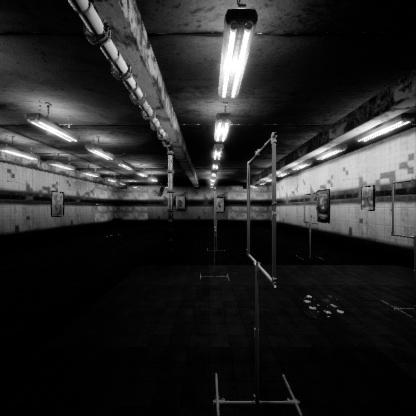gate: (251, 124, 283, 286), (392, 171, 416, 242), (304, 191, 319, 223), (215, 184, 217, 230), (216, 193, 217, 221)
